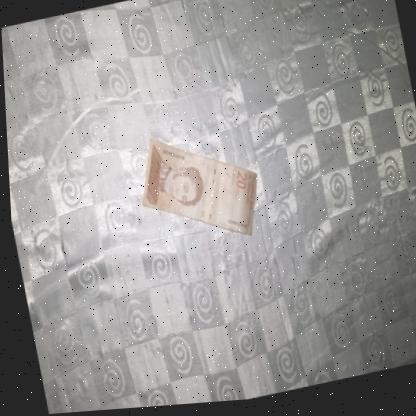twenty-front-vef: (127, 119, 266, 259)
